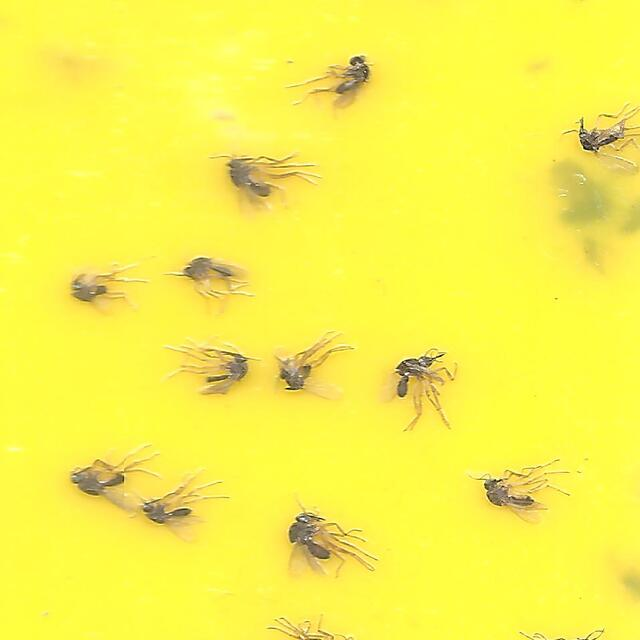Brachycera: (279, 509, 374, 585), (382, 350, 463, 431), (135, 473, 228, 542), (67, 448, 163, 513), (221, 149, 318, 213), (482, 459, 573, 522), (278, 332, 356, 401), (166, 341, 251, 396), (288, 55, 370, 111), (68, 260, 149, 316), (180, 255, 254, 314)
